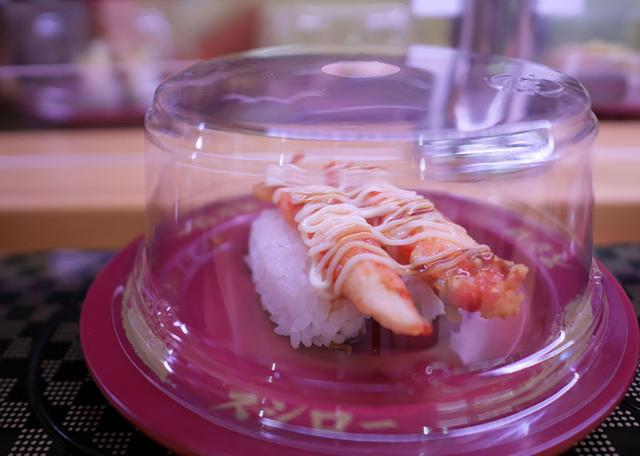janred: (38, 216, 639, 456)
